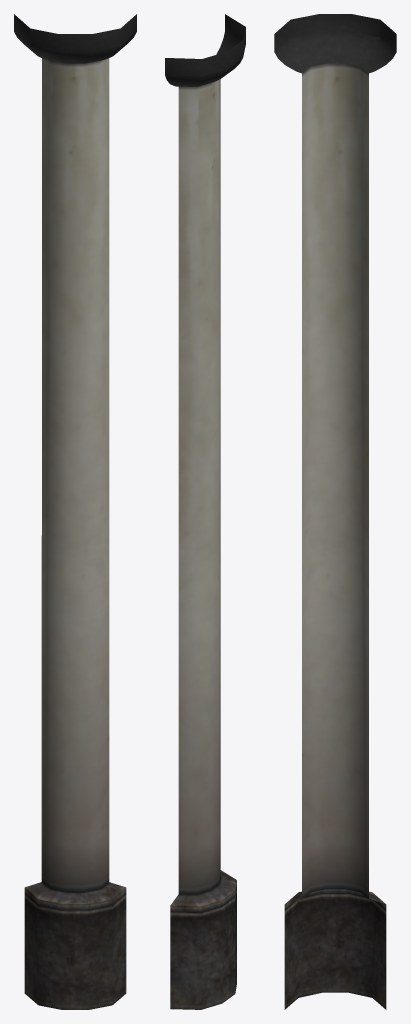
The model's file is lab_end_cap.dae.
3 views of the same model, side by side, from view 1: azimuth 90°, elevation 25°; view 2: azimuth 150°, elevation 25°; view 3: azimuth 270°, elevation 25° (orthographic). The views are drawn at different scales.
Visible parts, largest first — view 1: lab_end_cap; view 2: lab_end_cap; view 3: lab_end_cap.
Boxes of the visible parts, x1,y1,x2,y2 form: lab_end_cap: [14, 14, 136, 1009]; lab_end_cap: [165, 14, 245, 1009]; lab_end_cap: [274, 14, 396, 1009].
Size of the model in its own units: 0.1765 by 4 by 0.4551.
